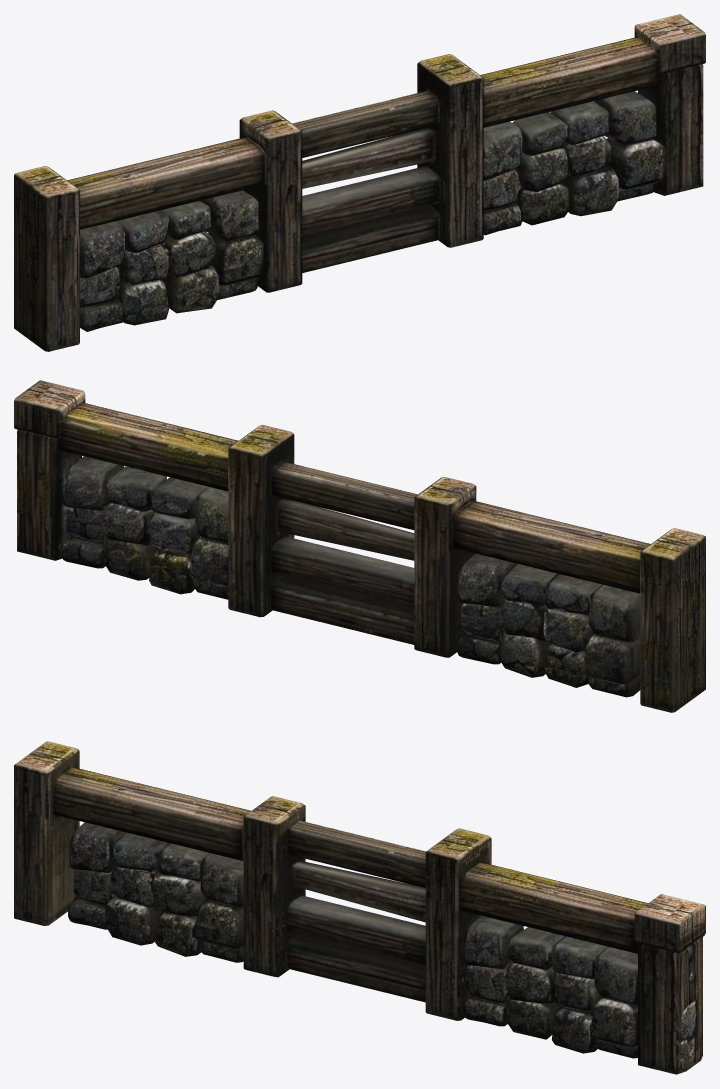
The model's file is act1-a07-2-weir.glb.
The picture shows the model from 3 angles, top to bottom: view 1: azimuth 30°, elevation 25°; view 2: azimuth 150°, elevation 25°; view 3: azimuth 330°, elevation 25°; orthographic projection.
Visible parts, largest first — view 1: act1-a07-2-weir; view 2: act1-a07-2-weir; view 3: act1-a07-2-weir.
Part boxes in pixels (x1,y1,x2,y2): act1-a07-2-weir: (14, 14, 705, 351); act1-a07-2-weir: (14, 380, 705, 712); act1-a07-2-weir: (14, 741, 705, 1074).
Size of the model in its own units: 4.2 by 0.9867 by 0.4269.
1 material, 1 textured.
